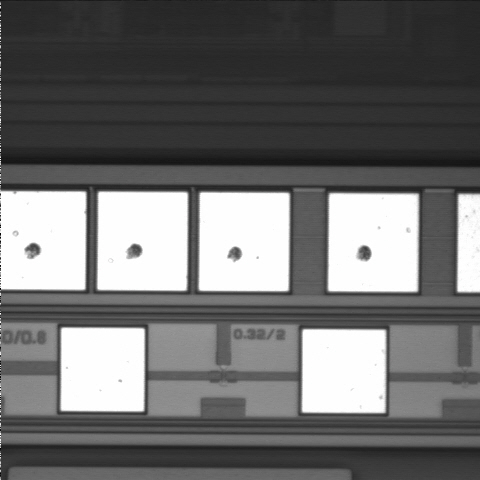pad: (97, 192, 188, 291), (328, 193, 418, 292), (199, 193, 289, 291), (302, 329, 386, 413), (61, 328, 145, 411)
